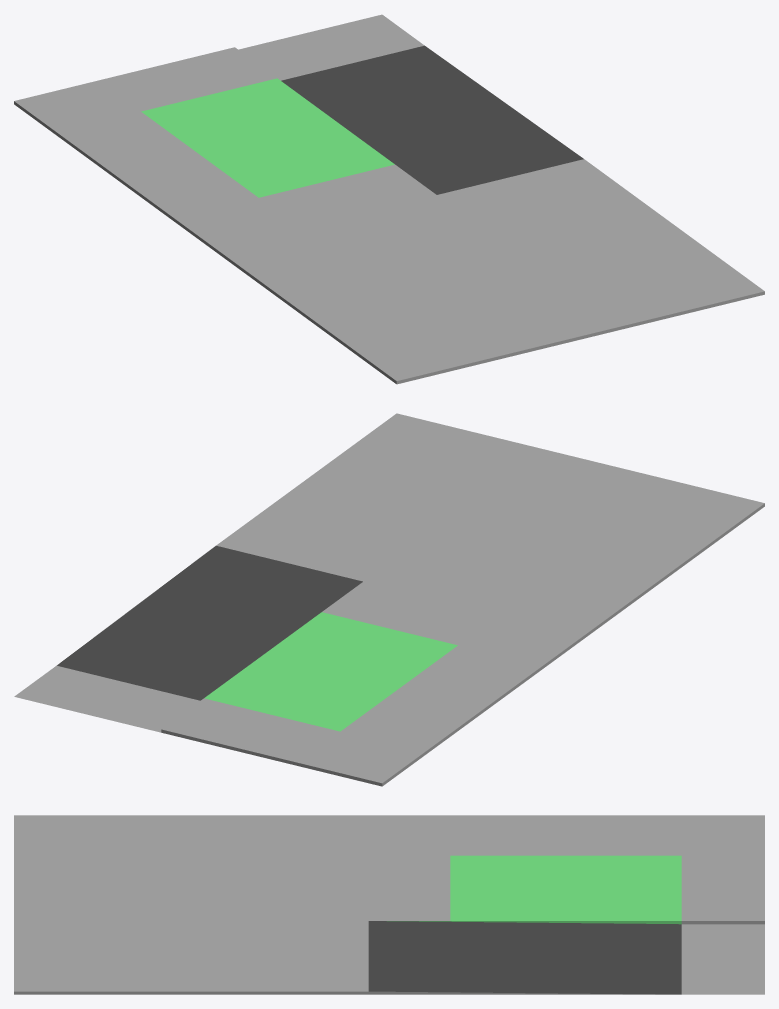
Rendered from PisoViviendas.fbx.
3 views of the same model, one above another, from view 1: azimuth 30°, elevation 25°; view 2: azimuth 150°, elevation 25°; view 3: azimuth 270°, elevation 25° (orthographic).
Parts seen in each view (by area): view 1: CasaPiso; view 2: CasaPiso; view 3: CasaPiso.
Boxes of the visible parts, x1=… form: CasaPiso: x1=14, y1=14, x2=764, y2=384; CasaPiso: x1=14, y1=413, x2=764, y2=786; CasaPiso: x1=14, y1=815, x2=764, y2=994.
Bounding box in the file's own units: 2000 × 17 × 3600.
